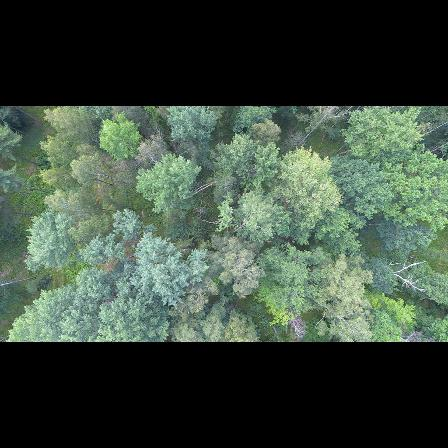Dead: (294, 106, 339, 152), (383, 253, 431, 294), (282, 312, 311, 340)
